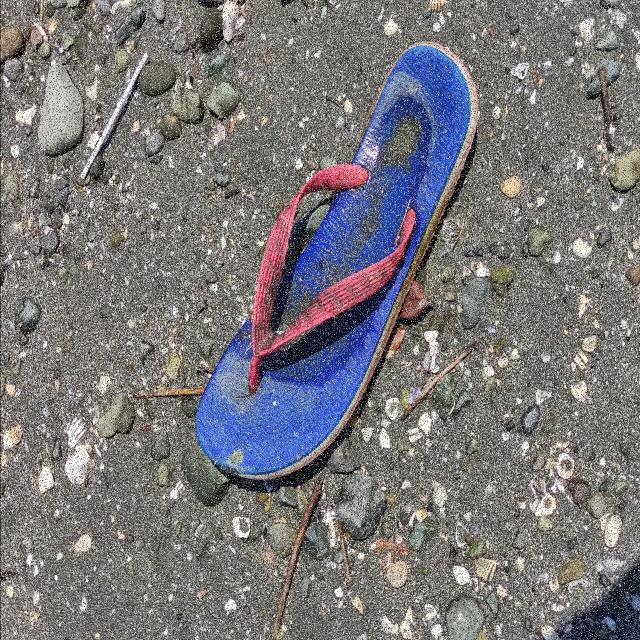plastic_waste: (78, 49, 155, 185)
rubber_waste: (194, 39, 478, 483)
